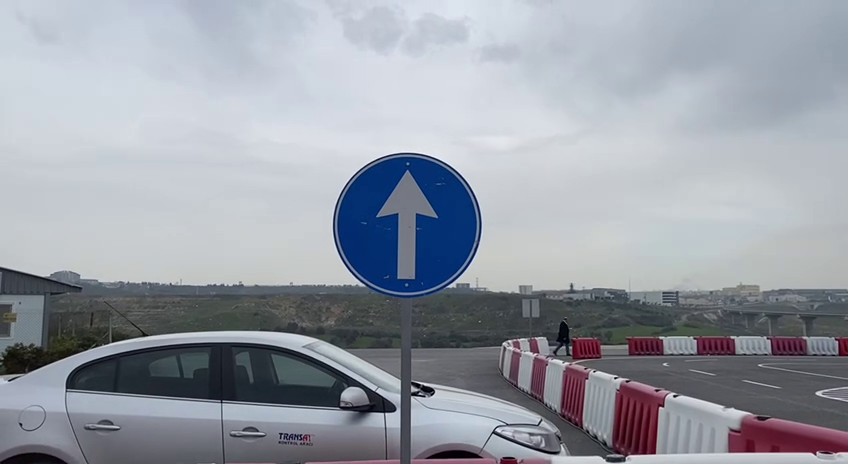forward: (330, 148, 485, 304)
